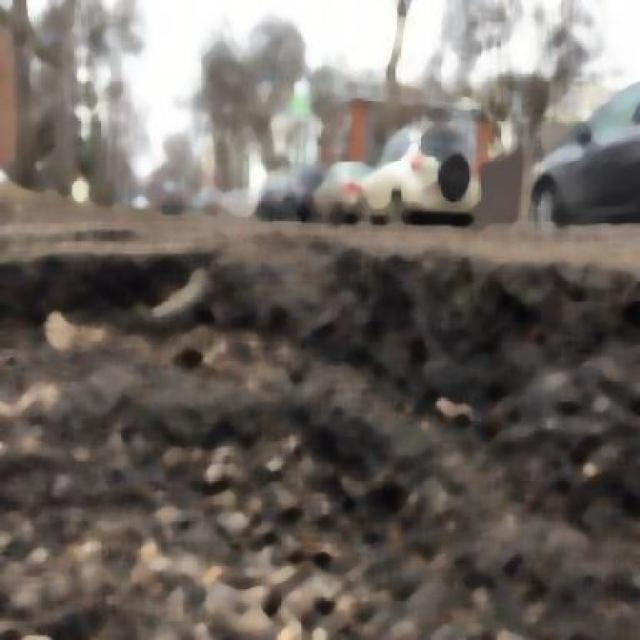Pothole: (0, 223, 638, 638)
